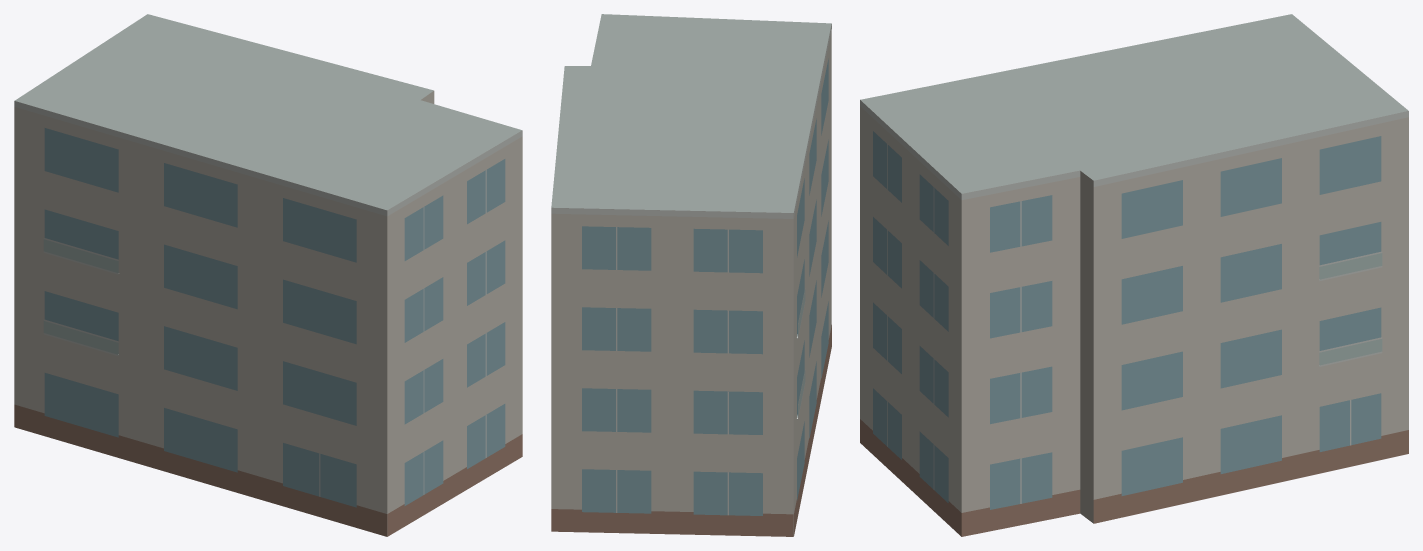
Rendered from survey-upis-32977436.glb.
3 renders of one model, left to right at view 1: azimuth 30°, elevation 25°; view 2: azimuth 150°, elevation 25°; view 3: azimuth 270°, elevation 25°, orthographic. The views are drawn at different scales.
Parts seen in each view (by area): view 1: survey-upis-32977436.tmp; view 2: survey-upis-32977436.tmp; view 3: survey-upis-32977436.tmp.
Boxes of the visible parts, box(x1,y1,x2,y2) form: survey-upis-32977436.tmp: box(14, 14, 522, 536); survey-upis-32977436.tmp: box(551, 14, 831, 536); survey-upis-32977436.tmp: box(860, 14, 1408, 536).
Bounding box in the file's own units: 14.86 × 13.2 × 19.15.
